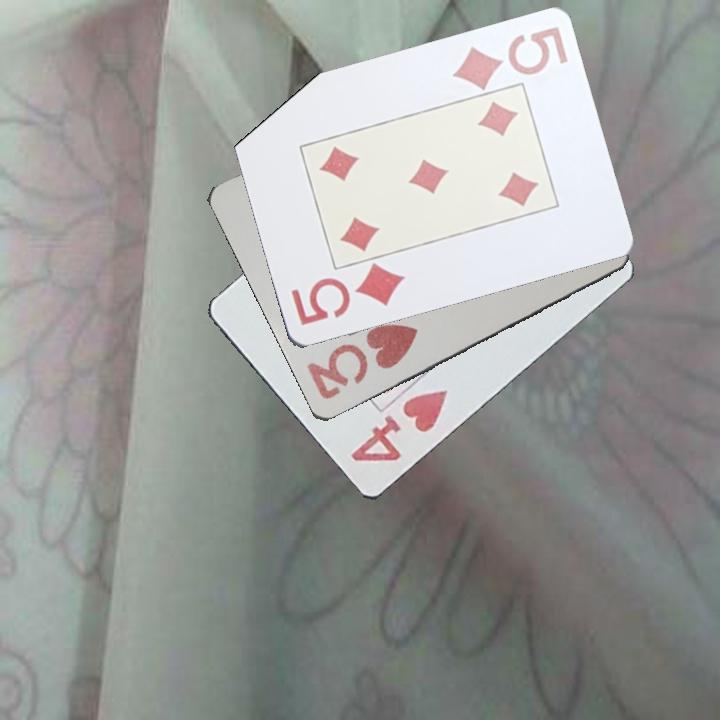3h: (302, 320, 421, 403)
4h: (346, 386, 451, 468)
5d: (448, 23, 571, 93), (287, 261, 408, 329)
